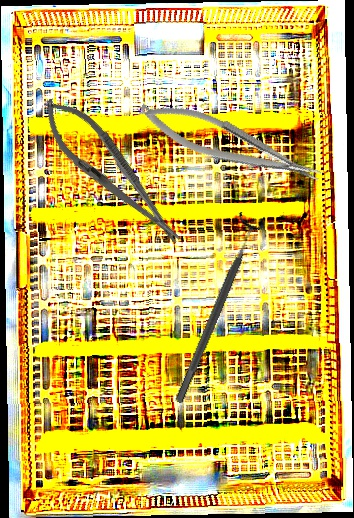Fixation Ring: (164, 210, 268, 409)
Needle Holder: (30, 86, 194, 258), (133, 88, 326, 201)
